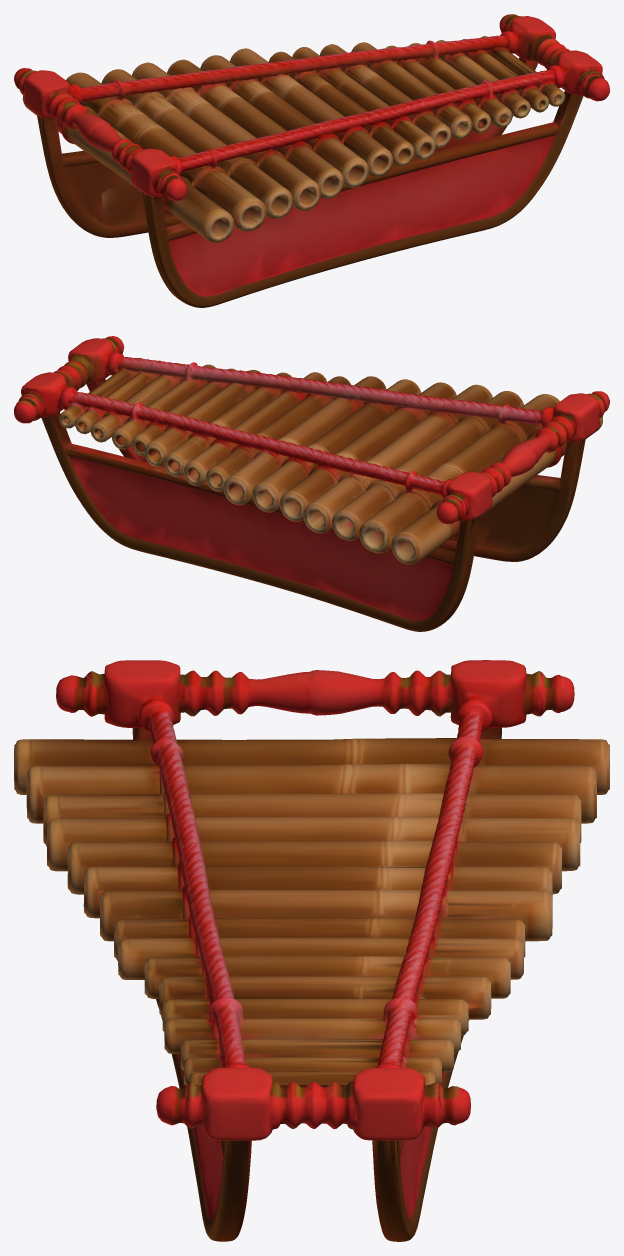
The model's file is gambang-compressed.glb.
3 renders of one model, top to bottom at view 1: azimuth 30°, elevation 25°; view 2: azimuth 150°, elevation 25°; view 3: azimuth 270°, elevation 25°, orthographic. The views are drawn at different scales.
Visible parts, largest first — view 1: material; view 2: material; view 3: material.
Boxes of the visible parts, x1,y1,x2,y2 form: material: (14,14,609,307); material: (14,336,609,631); material: (14,660,609,1241).
Size of the model in its own units: 1.03 by 0.3531 by 0.6802.
Materials: 1 (1 with a texture image).
